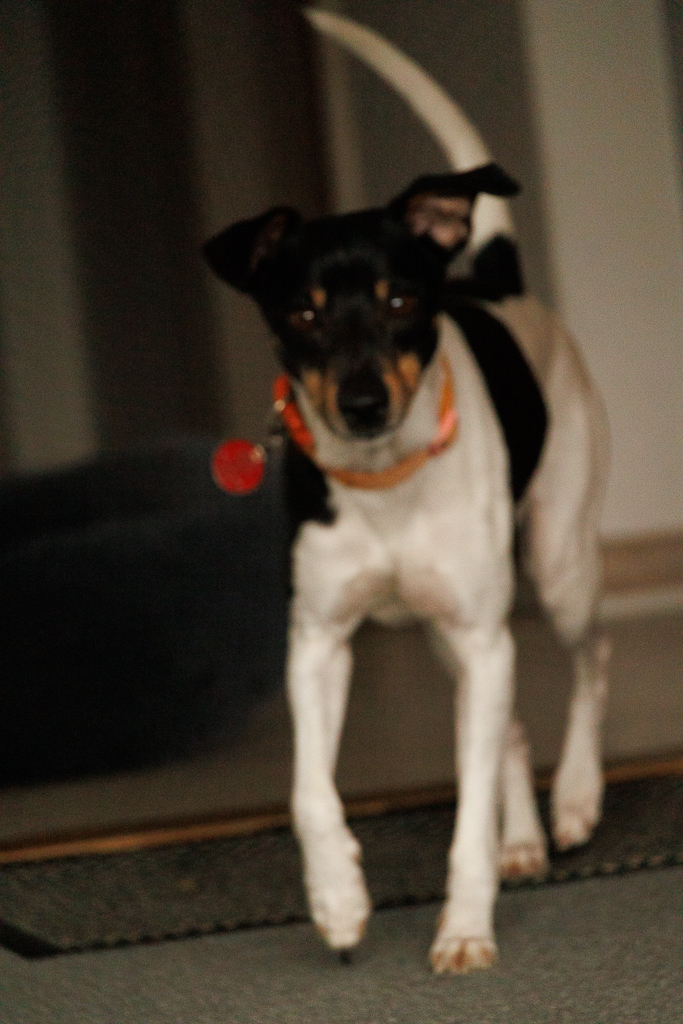Dog: (180, 0, 635, 985)
